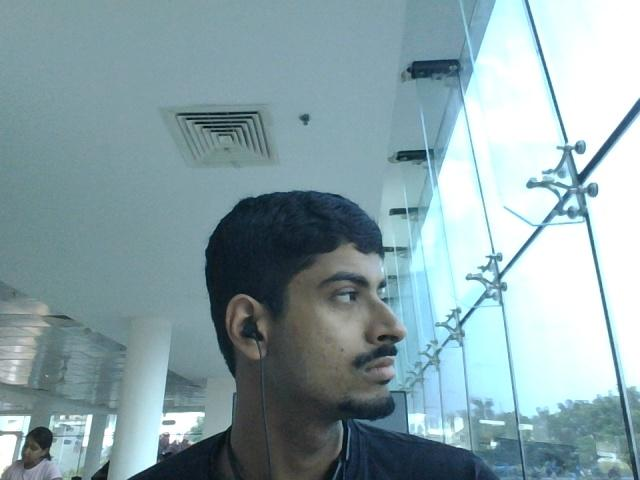average: (189, 175, 447, 431)
